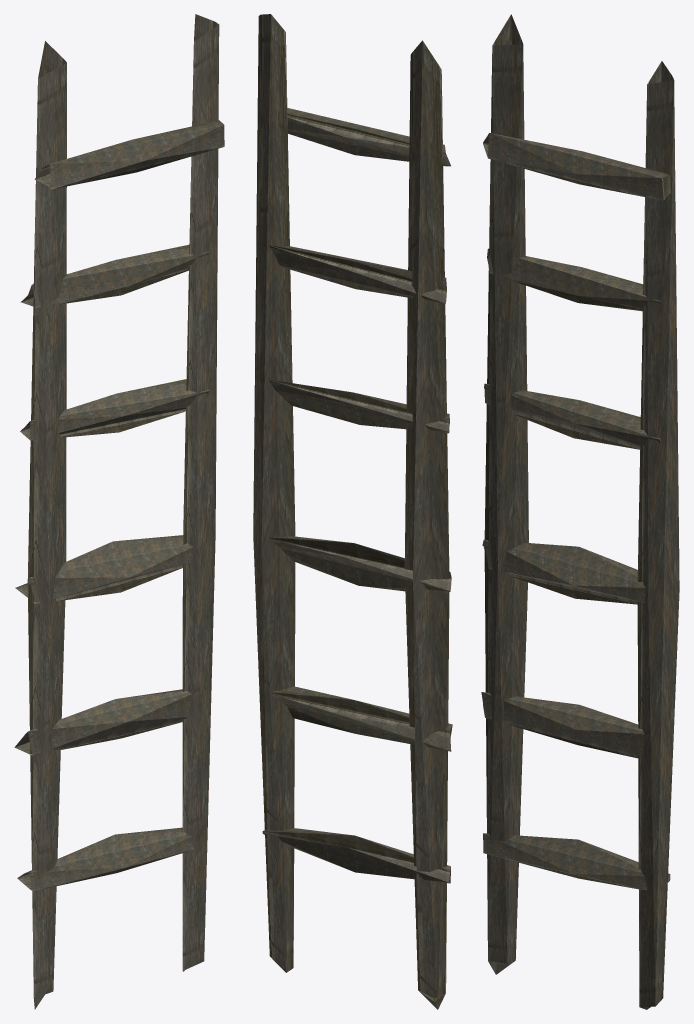
The model's file is ladder.glb.
3 renders of one model, left to right at view 1: azimuth 30°, elevation 25°; view 2: azimuth 150°, elevation 25°; view 3: azimuth 330°, elevation 25°, orthographic.
Visible parts, largest first — view 1: Cylinder; view 2: Cylinder; view 3: Cylinder.
Part boxes in pixels (bbox=[...]): Cylinder: bbox=[14, 14, 224, 1009]; Cylinder: bbox=[253, 14, 452, 1009]; Cylinder: bbox=[481, 14, 679, 1009].
Bounding box in the file's own units: 4.55 × 21.03 × 0.8535.
1 material, 1 textured.
